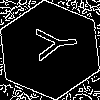Y: (25, 25, 79, 62)
